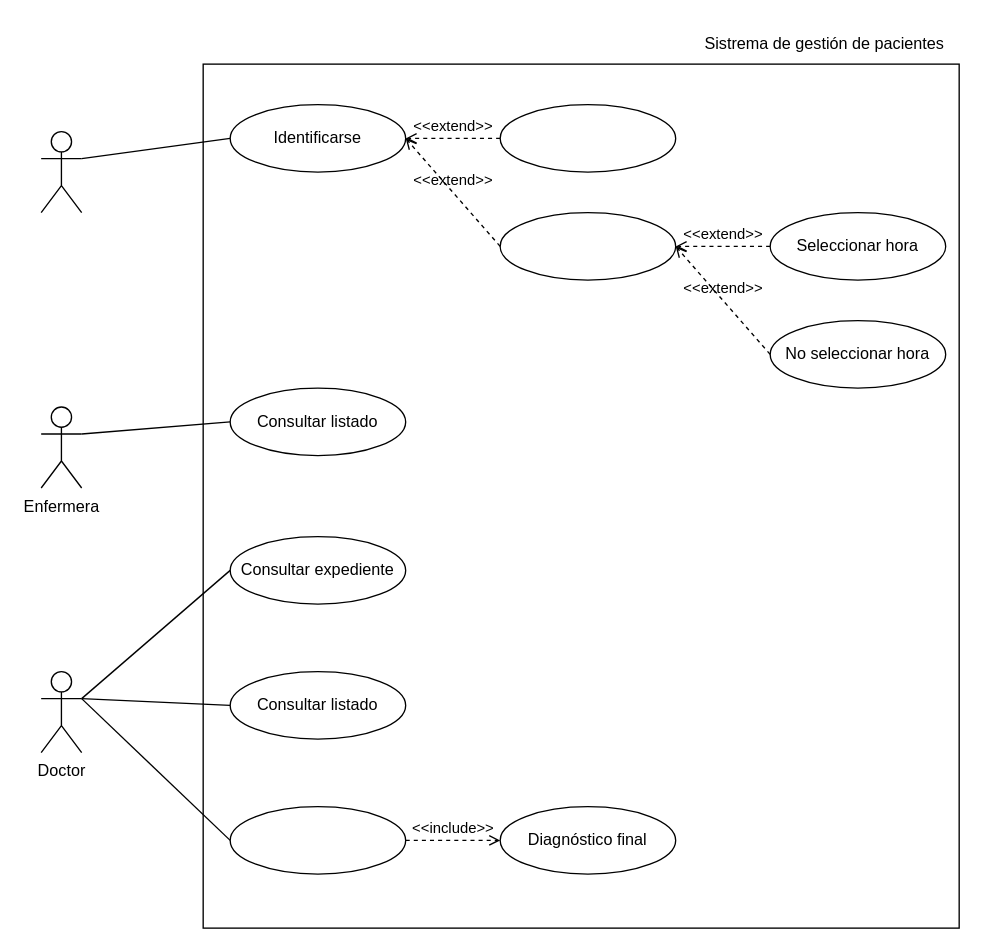
Some shapes in this 983 by 952 pixel diagram are drawn without their labels. Here are the shapes that lost their labels. From the top down, the centre of each, then its label:
At point 587,137: "Ver expediente médico".
At point 61,171: "Paciente".
At point 587,245: "Solicitar cita".
At point 317,839: "Pasar consulta".
